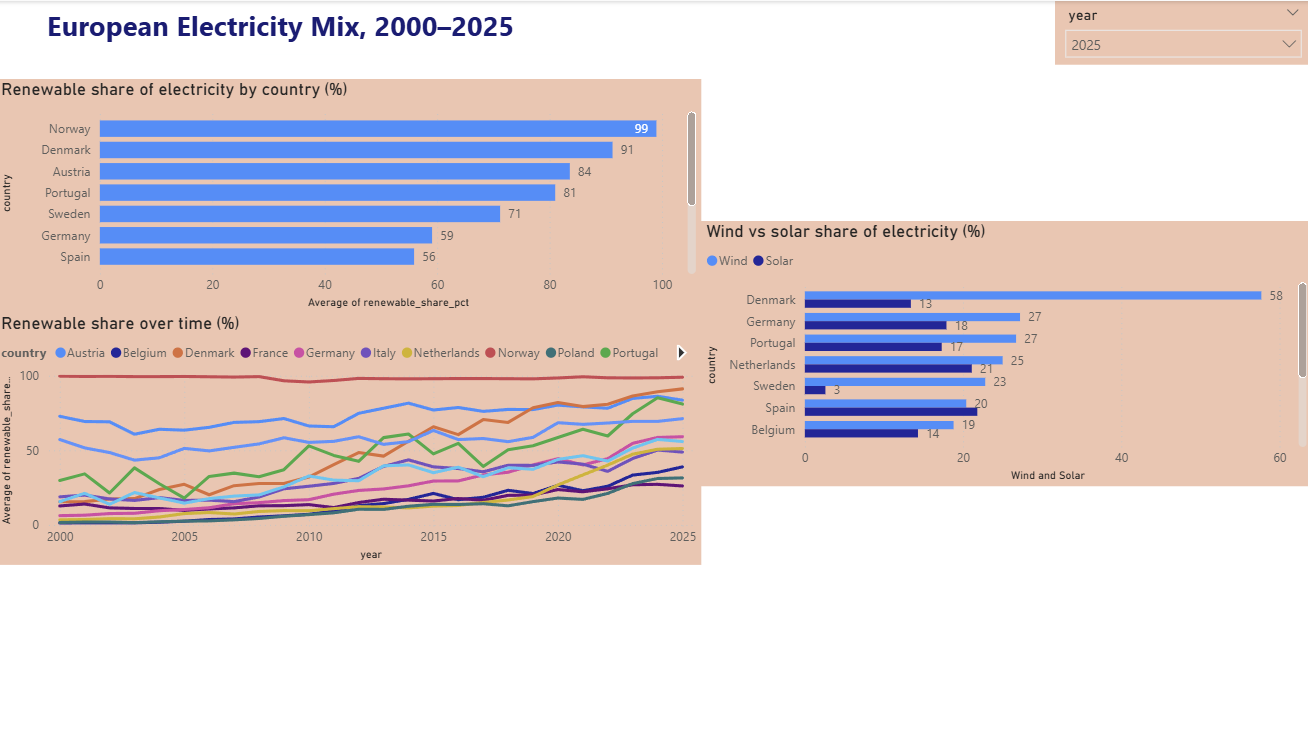

This screenshot's page, from the dashboard's own definition file:
{"tool":"powerbi","page":{"name":"Page 1","canvas":[1280,720],"ordinal":0},"visuals":[{"type":"slicer","fields":{"Values":["marts fct_energy_mix.year"]},"box":[1029.6,0,250.4,62],"z":0},{"type":"clusteredBarChart","title":"Renewable share of electricity by country (%)","fields":{"Category":["marts fct_energy_mix.country"],"Y":["Avg(marts fct_energy_mix.renewable_share_pct)"]},"box":[0,75.9,685.7,227.6],"z":1},{"type":"lineChart","title":"Renewable share over time (%)","fields":{"Category":["marts fct_energy_mix.year"],"Y":["Avg(marts fct_energy_mix.renewable_share_pct)"],"Series":["marts fct_energy_mix.country"]},"box":[0,303.5,685.7,245.1],"z":2},{"type":"textbox","box":[0,0,553.7,51.9],"z":5},{"type":"clusteredBarChart","title":"Wind vs solar share of electricity (%)","fields":{"Category":["marts fct_energy_mix.country"],"Y":["Avg(marts fct_energy_mix.wind_share_pct)","Avg(marts fct_energy_mix.solar_share_pct)"]},"box":[685.7,214,594.3,257.8],"z":6}]}

Visuals, with their boxes in screenshot pixels (x1, y1, x2, y2), scaled from the page's 1280x720 canvas onto the 1308x737 screenshot:
slicer - marts fct_energy_mix.year: box(1052, 0, 1307, 63)
"Renewable share of electricity by country (%)" clusteredBarChart: box(0, 78, 701, 311)
"Renewable share over time (%)" lineChart: box(0, 311, 701, 562)
textbox: box(0, 0, 566, 53)
"Wind vs solar share of electricity (%)" clusteredBarChart: box(701, 219, 1307, 483)
